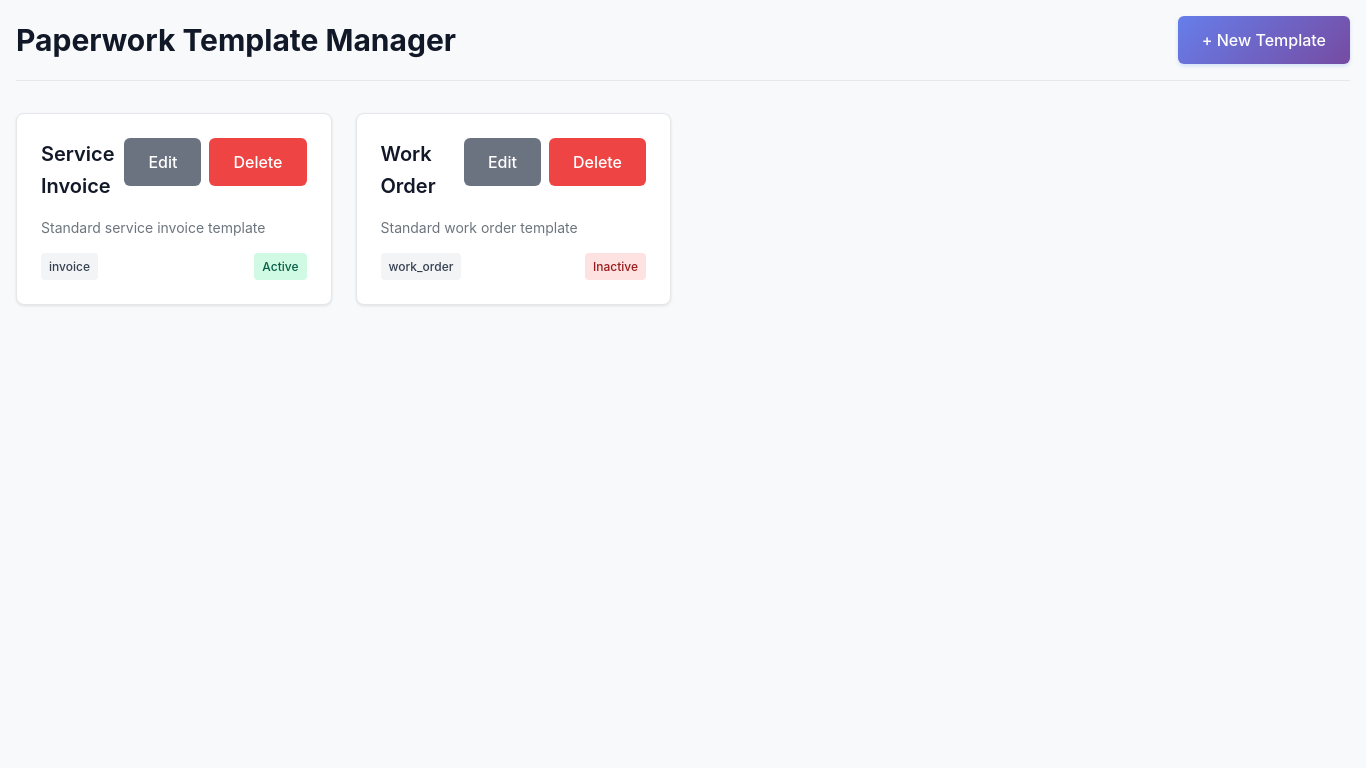
Test case: PaperworkTemplateManager Component - REQ-203.5 › Template Creation › opens new template editor when new template button is clicked
The width and height of the screenshot is (1366, 768).
Click the button "+ New Template". click: (1264, 40)
box: [1178,16,1350,64]
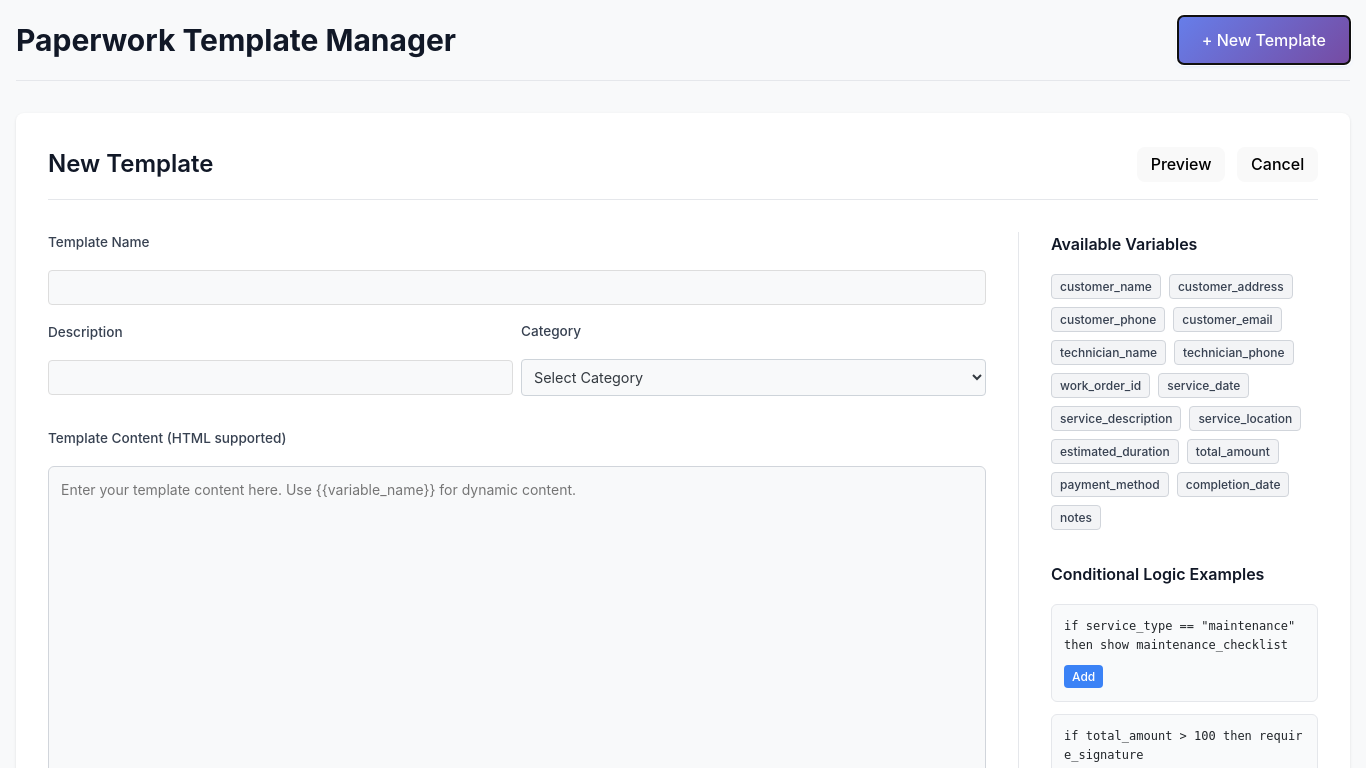
Expected: the heading "New Template" is shown, [48,145,214,183]
Expected: the text "Template Name" is shown, [48,234,150,250]
Expected: the text "Description" is shown, [48,324,123,340]
